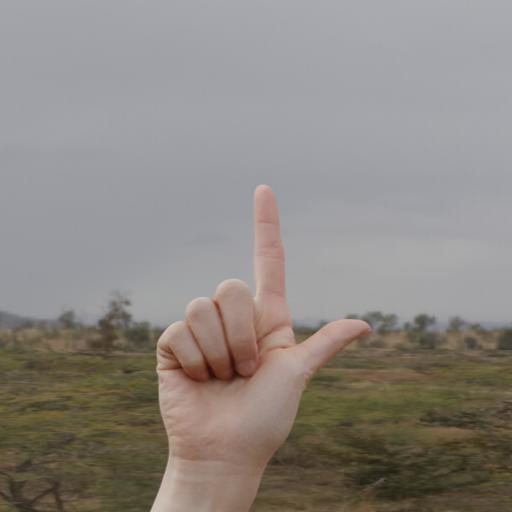L: (144, 177, 385, 469)
